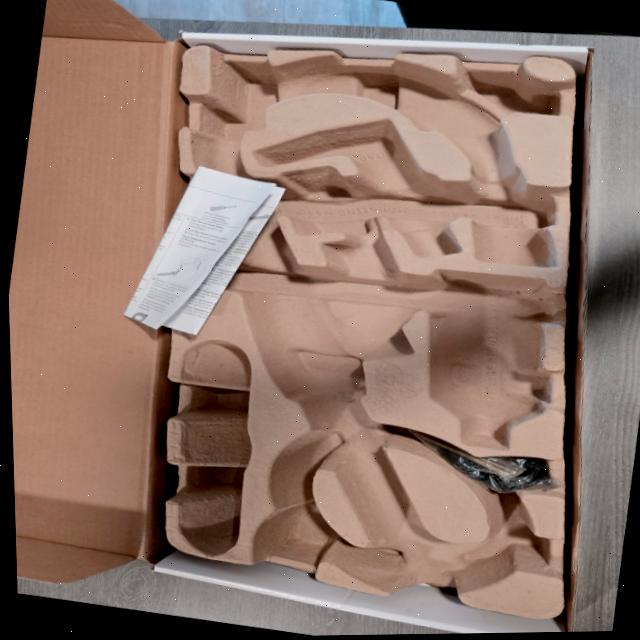1m: (195, 61, 557, 605)
2m: (256, 120, 462, 256)
3m: (428, 271, 547, 451)
4m: (179, 342, 252, 556)
5m: (265, 509, 337, 564)
6m: (460, 529, 549, 577)
7: (404, 430, 556, 495)
8: (122, 165, 289, 336)
